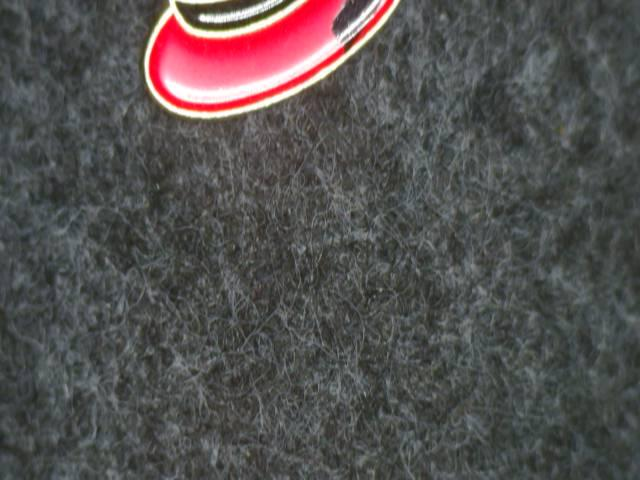Red-Hat: (133, 0, 471, 156)
Scratch: (321, 0, 396, 65)
